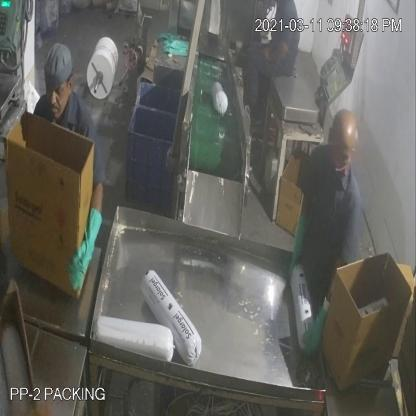glove: (64, 207, 108, 295), (282, 200, 312, 288), (299, 296, 334, 361)
